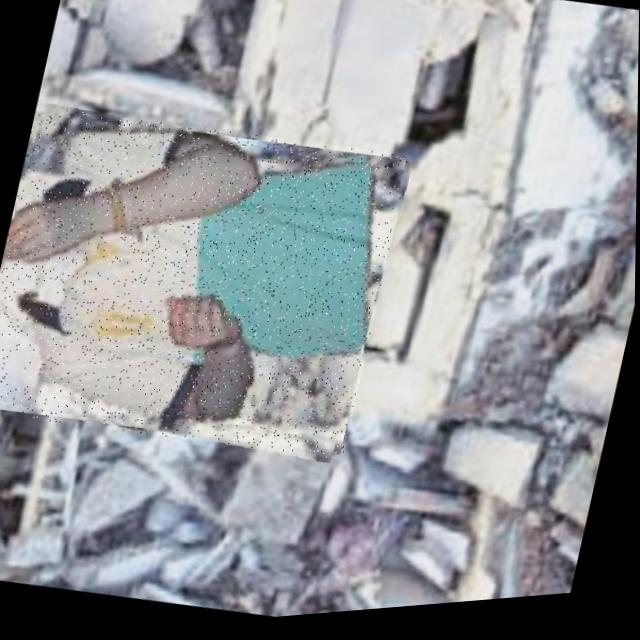Person in Rubble: (0, 81, 411, 486)
